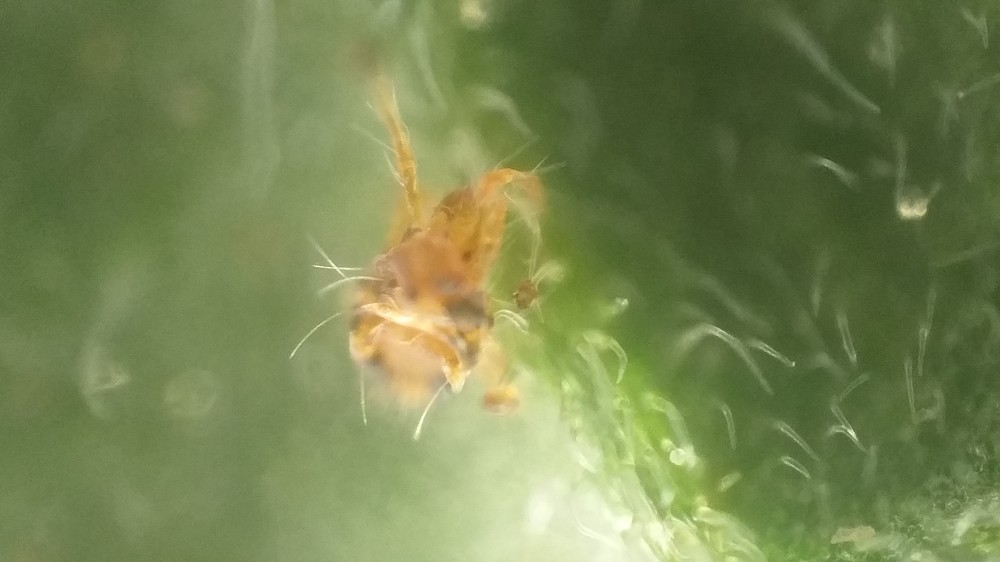Aracnido Rojo: (304, 80, 562, 429)
